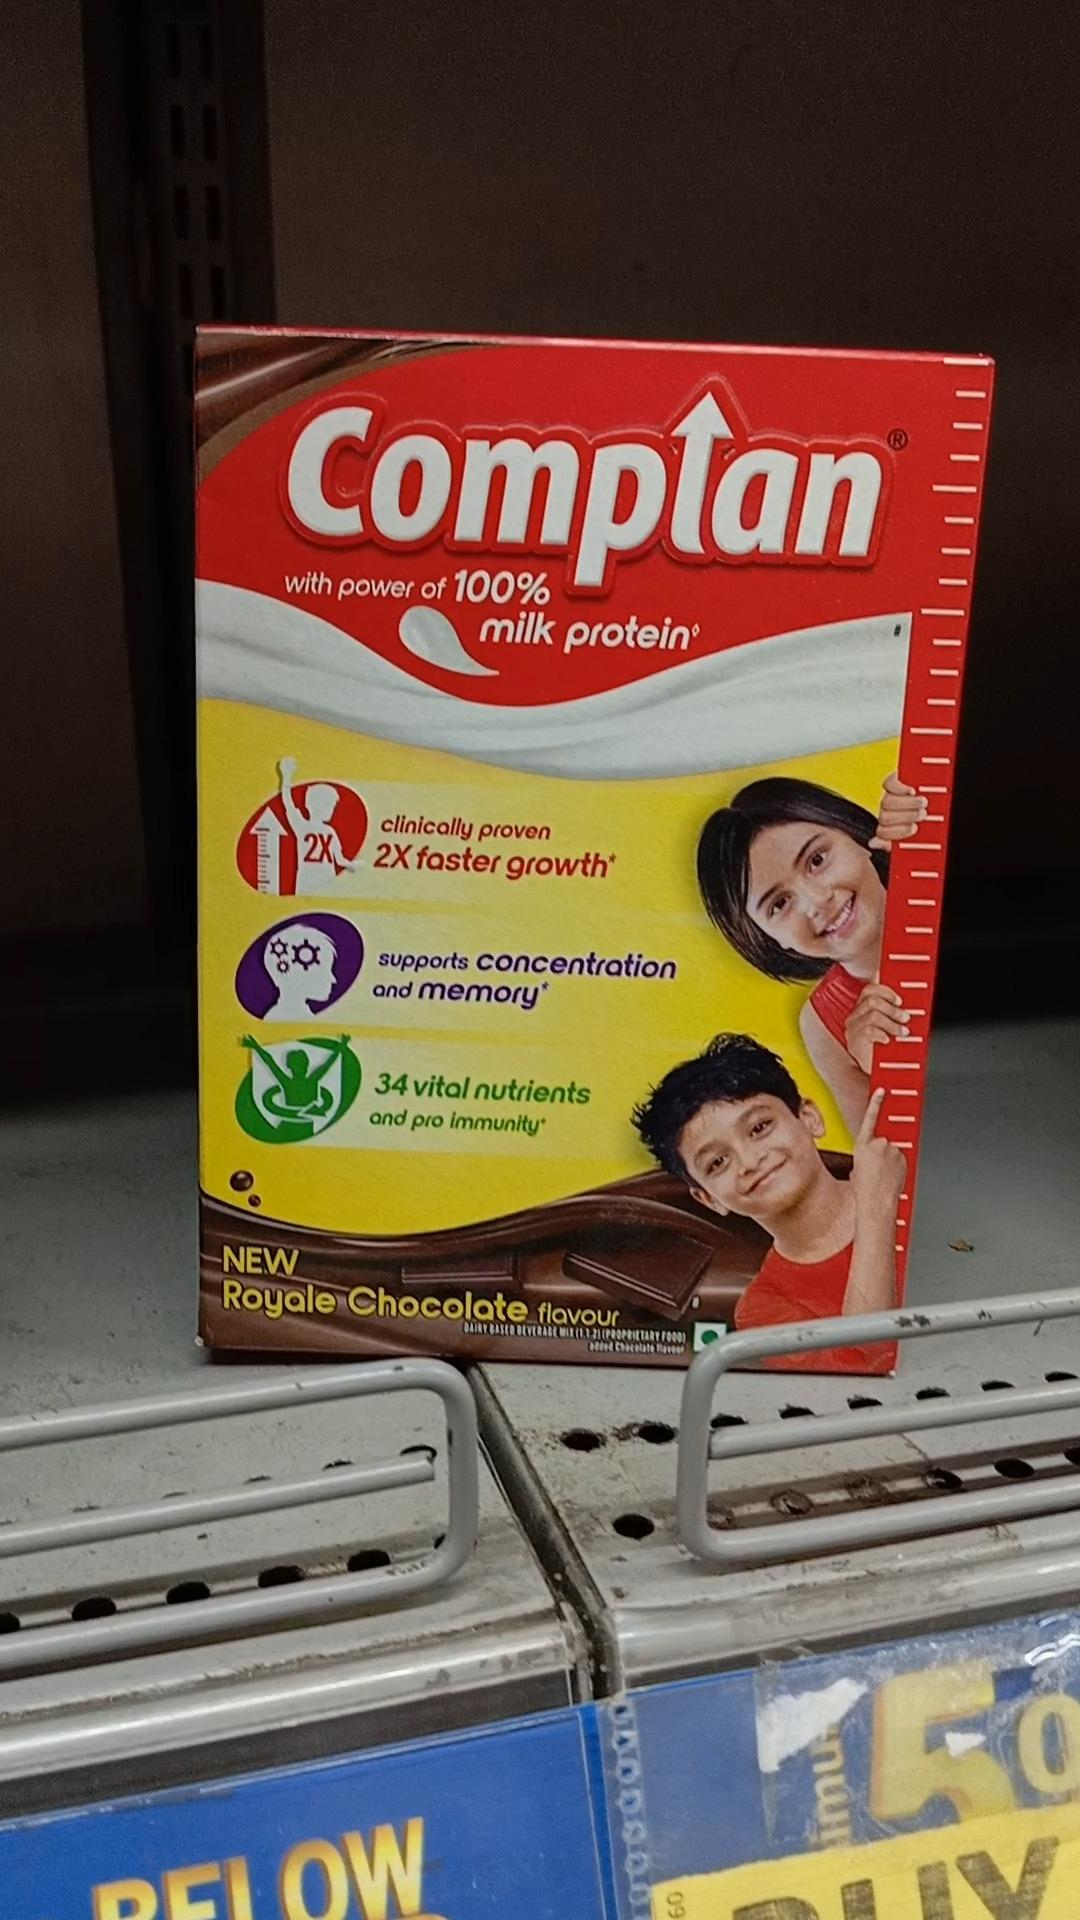COMPLAN_CHOCOLATE_200_GMS_PACK: (200, 324, 920, 1365)
